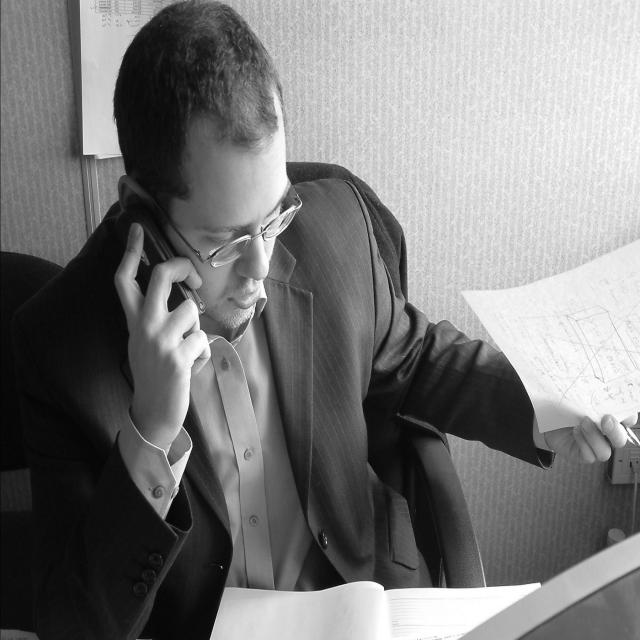phone: (107, 156, 236, 380)
